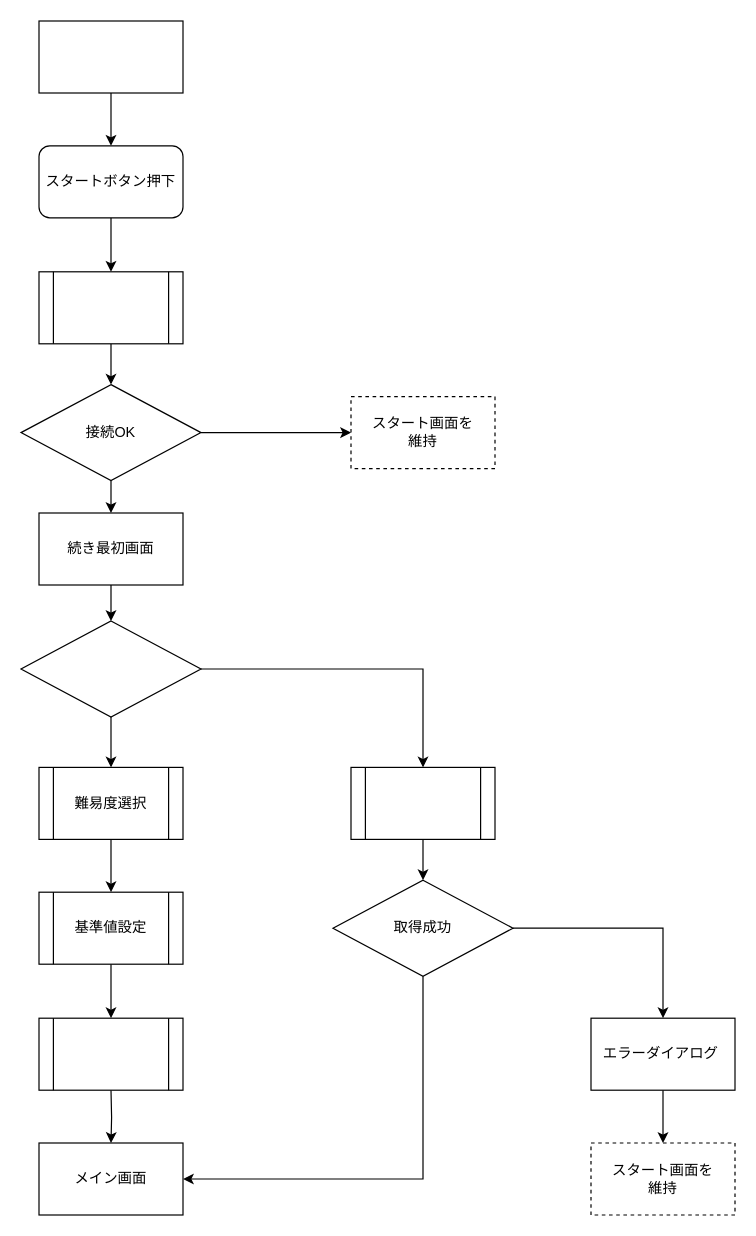
This 756x1236 diagram has some shape labels left out. Here are the shapes that lost their labels. From the top down, the box of each, then its label:
(38, 20, 183, 93): スタート画面
(38, 271, 183, 344): metamask 接続要求
(20, 620, 201, 717): 初めてor 続きから
(350, 766, 495, 839): イーサリアムからデータ取得
(38, 1017, 183, 1090): 寿司選択画面
